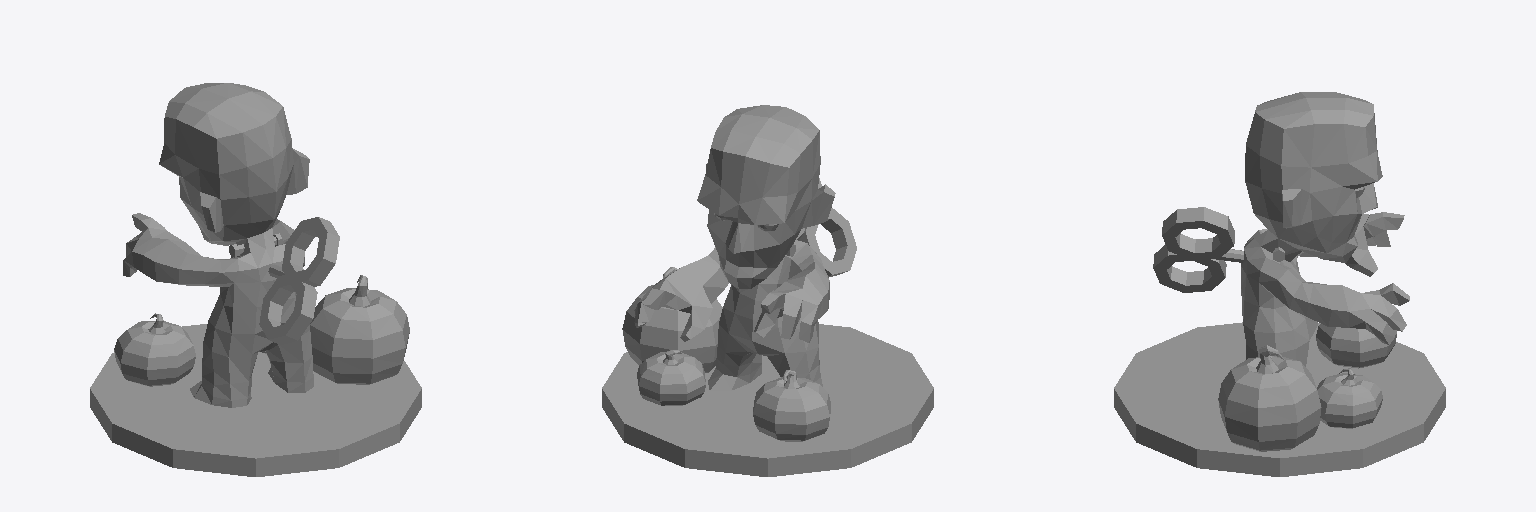
Rendered from frankie.obj.
3 views of the same model, side by side, from view 1: azimuth 30°, elevation 25°; view 2: azimuth 150°, elevation 25°; view 3: azimuth 270°, elevation 25° (orthographic).
Bounding box in the file's own units: 9.07 × 9.12 × 9.07.